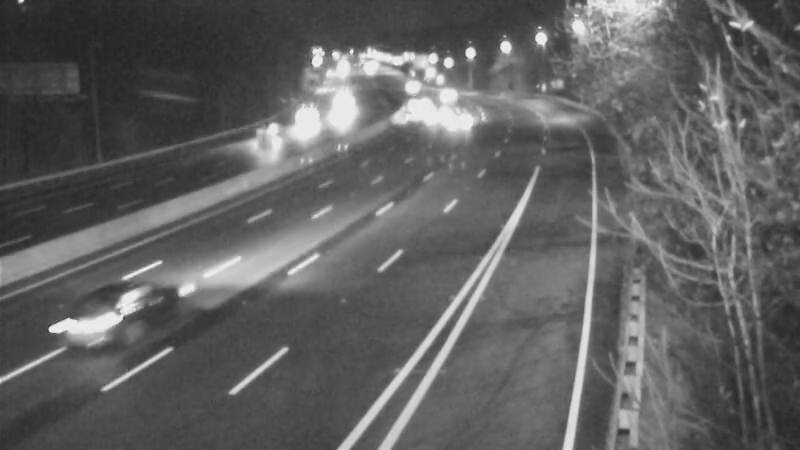vehicle: (30, 268, 140, 378), (422, 65, 472, 115), (393, 77, 443, 127), (398, 87, 448, 137), (383, 90, 433, 140), (437, 94, 487, 144), (238, 119, 288, 169), (270, 103, 320, 153), (321, 82, 371, 132)
